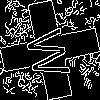W: (25, 25, 79, 81)
